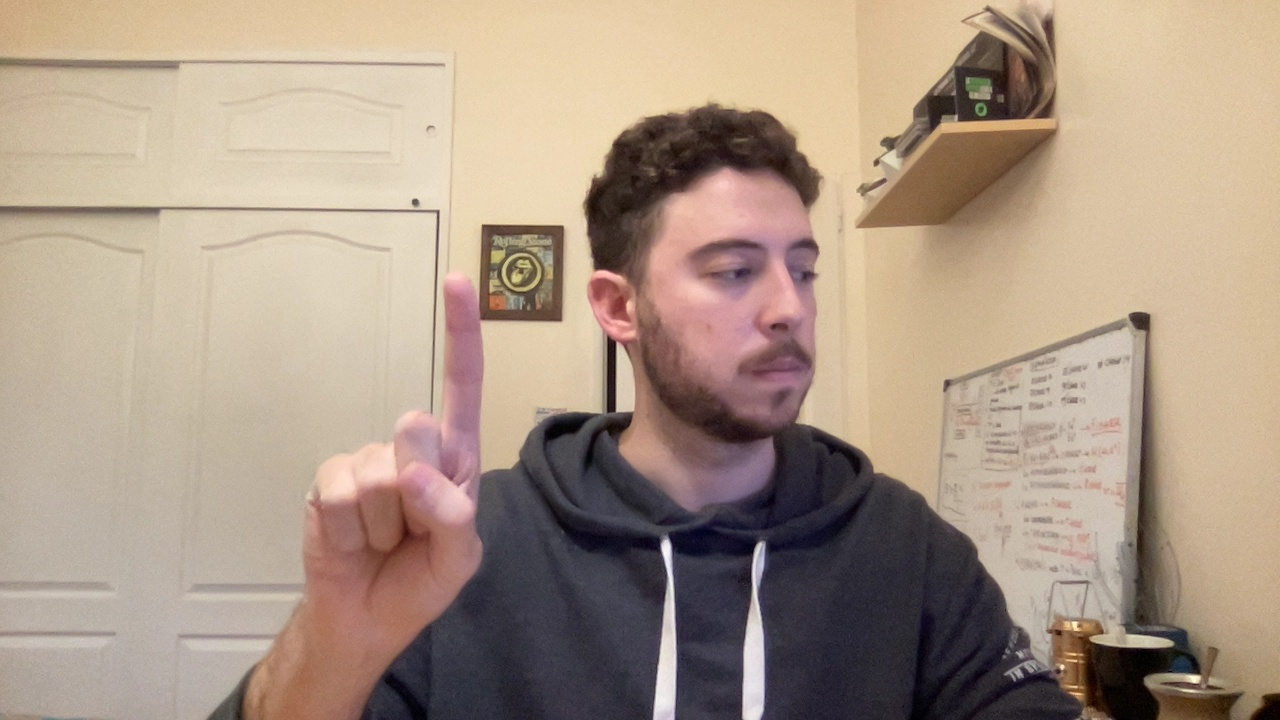indice: (272, 268, 525, 649)
